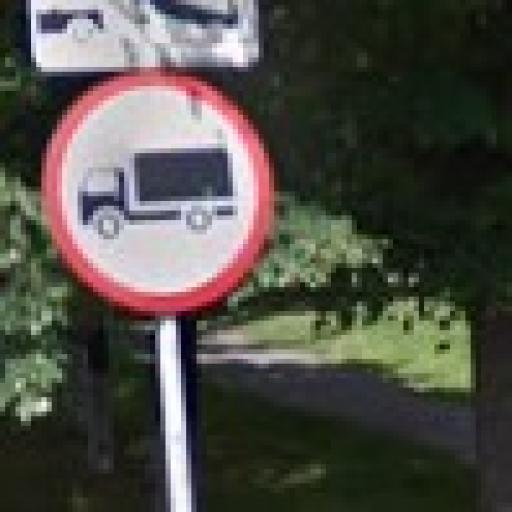traffic_sign: (37, 73, 275, 317)
